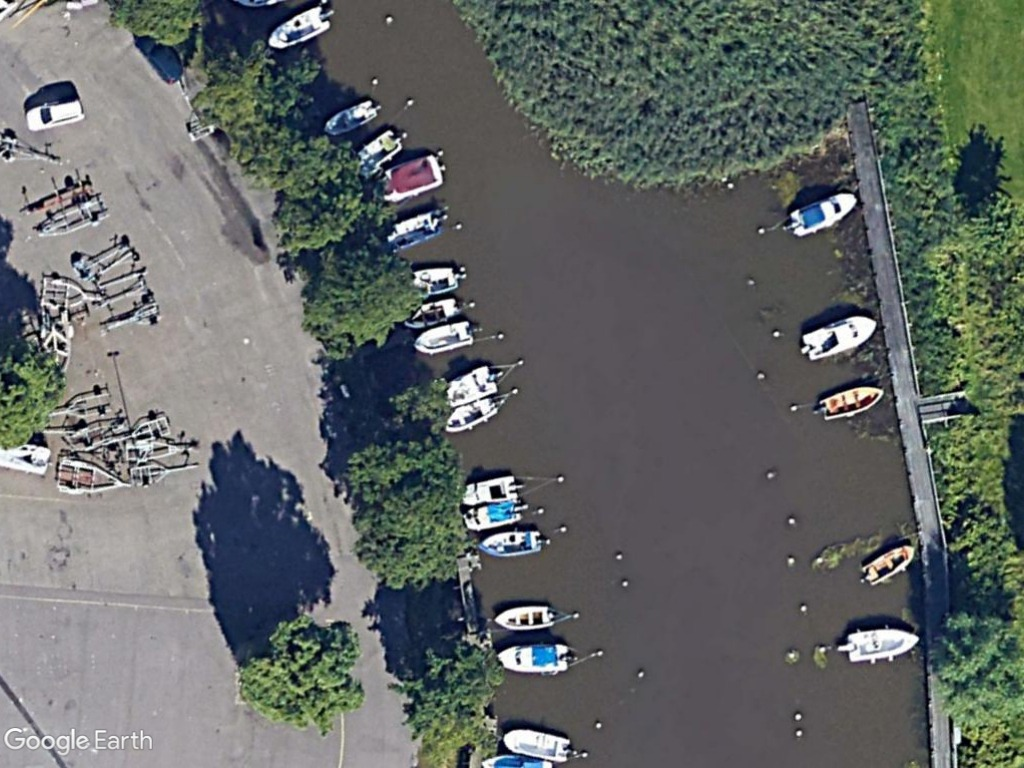boat: (798, 312, 877, 364), (781, 189, 859, 239), (839, 624, 923, 667), (262, 3, 337, 51), (495, 637, 574, 679), (499, 725, 574, 767), (811, 384, 886, 426), (411, 315, 481, 359), (856, 538, 916, 587), (441, 391, 499, 437), (317, 98, 380, 140), (476, 523, 542, 561), (491, 601, 557, 635)
car: (20, 93, 89, 134)
